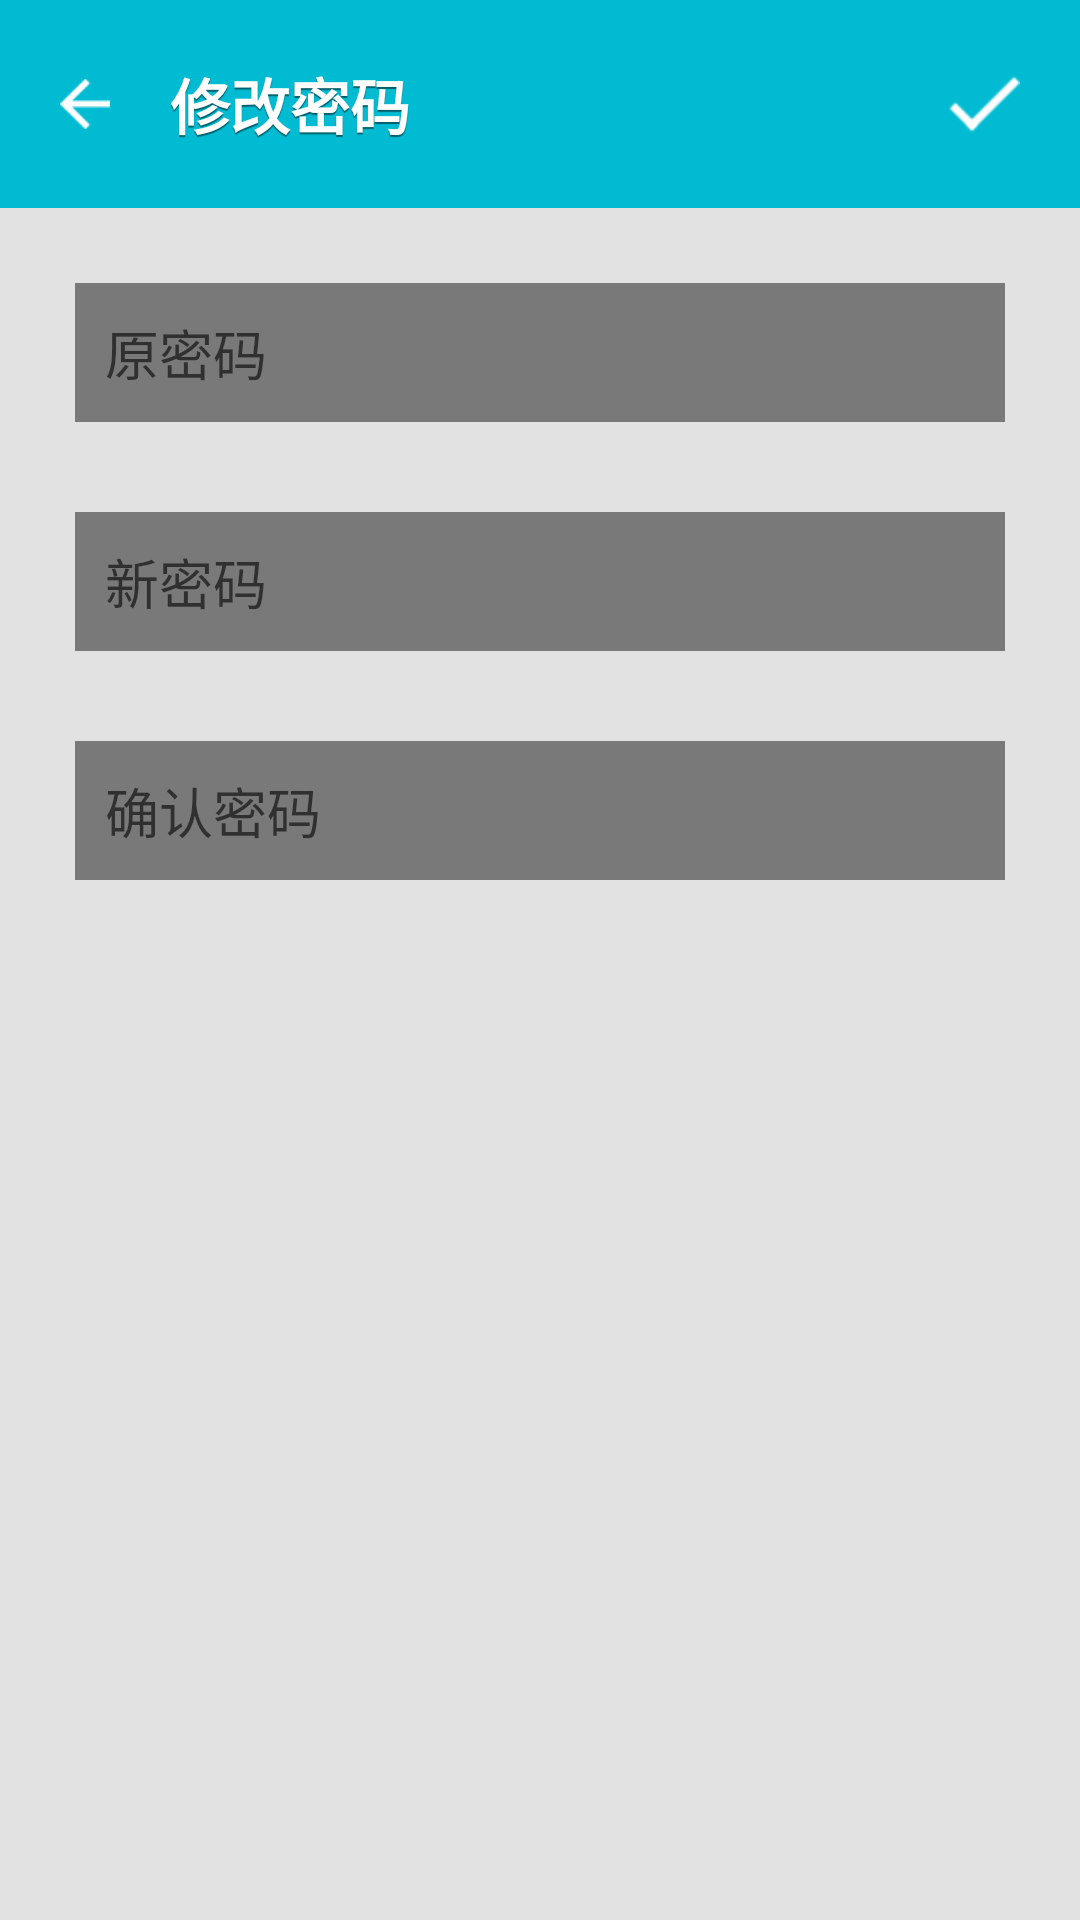

Icon click points for this 1080px×1920px phone screenshot, format [x,y]:
title ok: [984,104]
